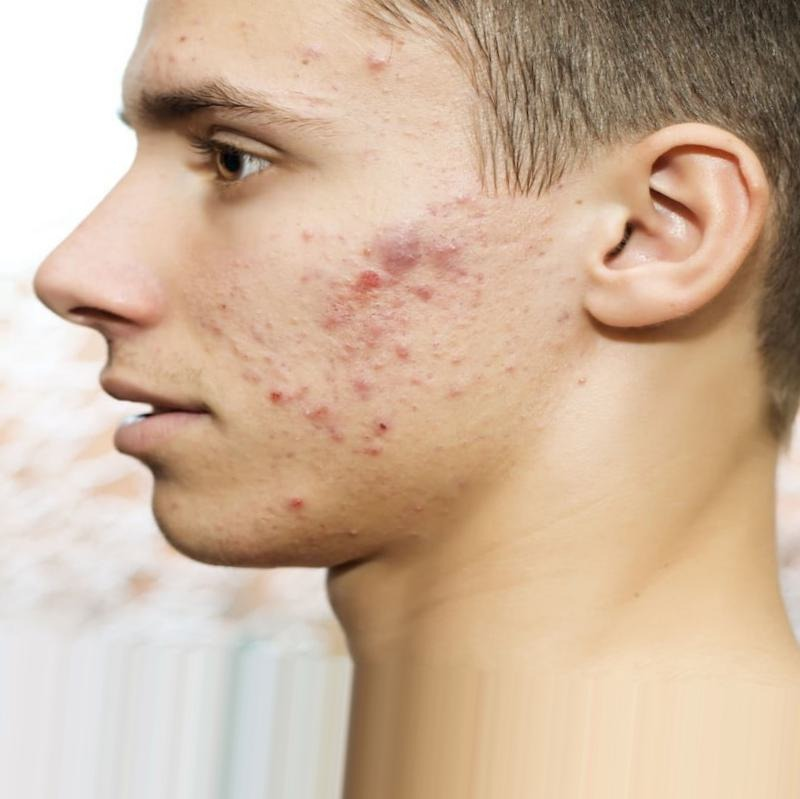Acne: (198, 33, 532, 505)
